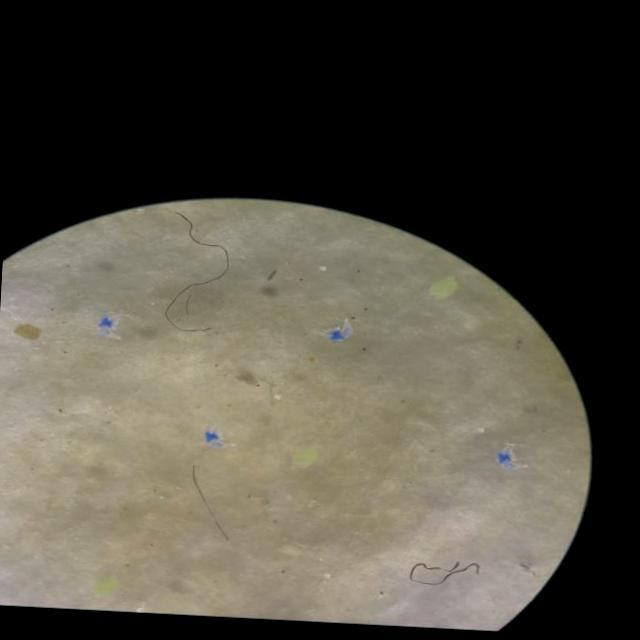fiber: (165, 212, 230, 330), (193, 465, 229, 541), (410, 561, 481, 585)
film: (499, 445, 525, 469), (326, 319, 353, 341), (98, 316, 122, 336), (210, 430, 228, 448)
fragment: (430, 279, 458, 298), (293, 448, 318, 467), (94, 577, 119, 596), (15, 323, 41, 341)
pellet: (275, 394, 282, 400), (477, 428, 485, 432), (321, 266, 327, 271)
